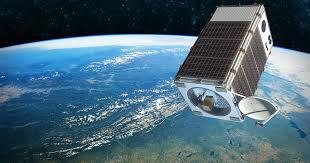antenna: (238, 96, 277, 120)
body: (174, 4, 274, 123)
solar: (175, 20, 252, 82), (229, 25, 268, 101)
